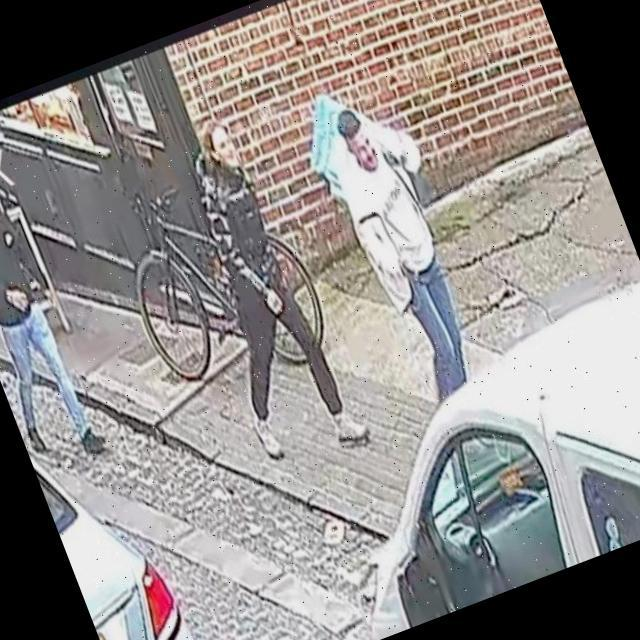person: (143, 104, 374, 480), (313, 92, 507, 415), (0, 164, 119, 475), (0, 162, 32, 423)
